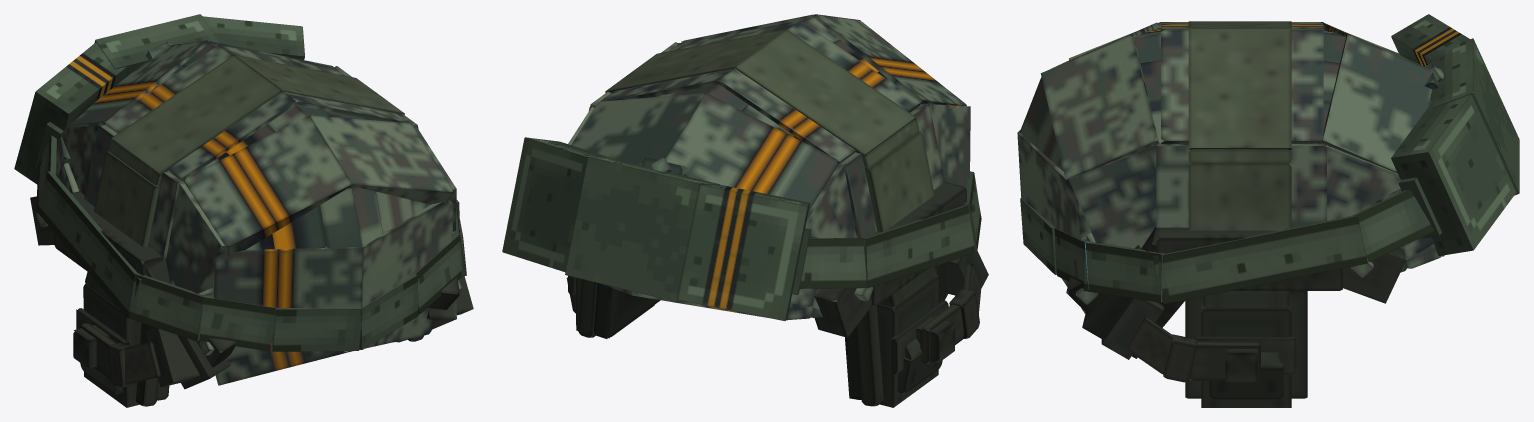
Rendered from veteran_h.obj.
3 renders of one model, left to right at view 1: azimuth 30°, elevation 25°; view 2: azimuth 150°, elevation 25°; view 3: azimuth 270°, elevation 25°, orthographic. The views are drawn at different scales.
Visible parts, largest first — view 1: cube; view 2: cube; view 3: cube.
Part boxes in pixels (left/top/right/bottom): cube: left=14, top=14, right=473, bottom=407; cube: left=502, top=14, right=988, bottom=407; cube: left=1017, top=14, right=1519, bottom=407.
Size of the model in its own units: 0.8375 by 0.6474 by 0.9744.
